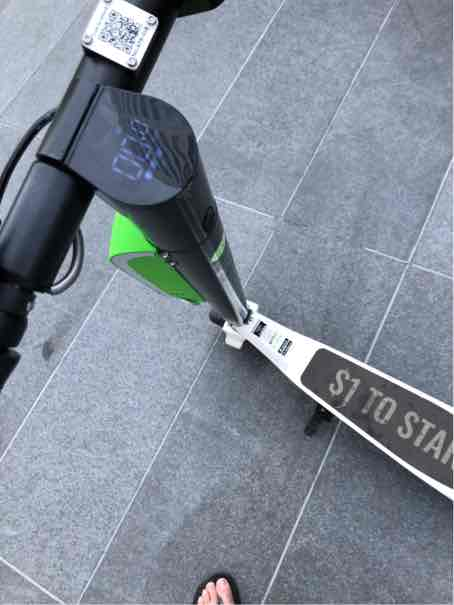scooter: (16, 10, 441, 579)
